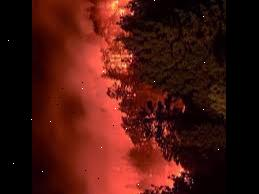fire: (88, 0, 139, 81)
